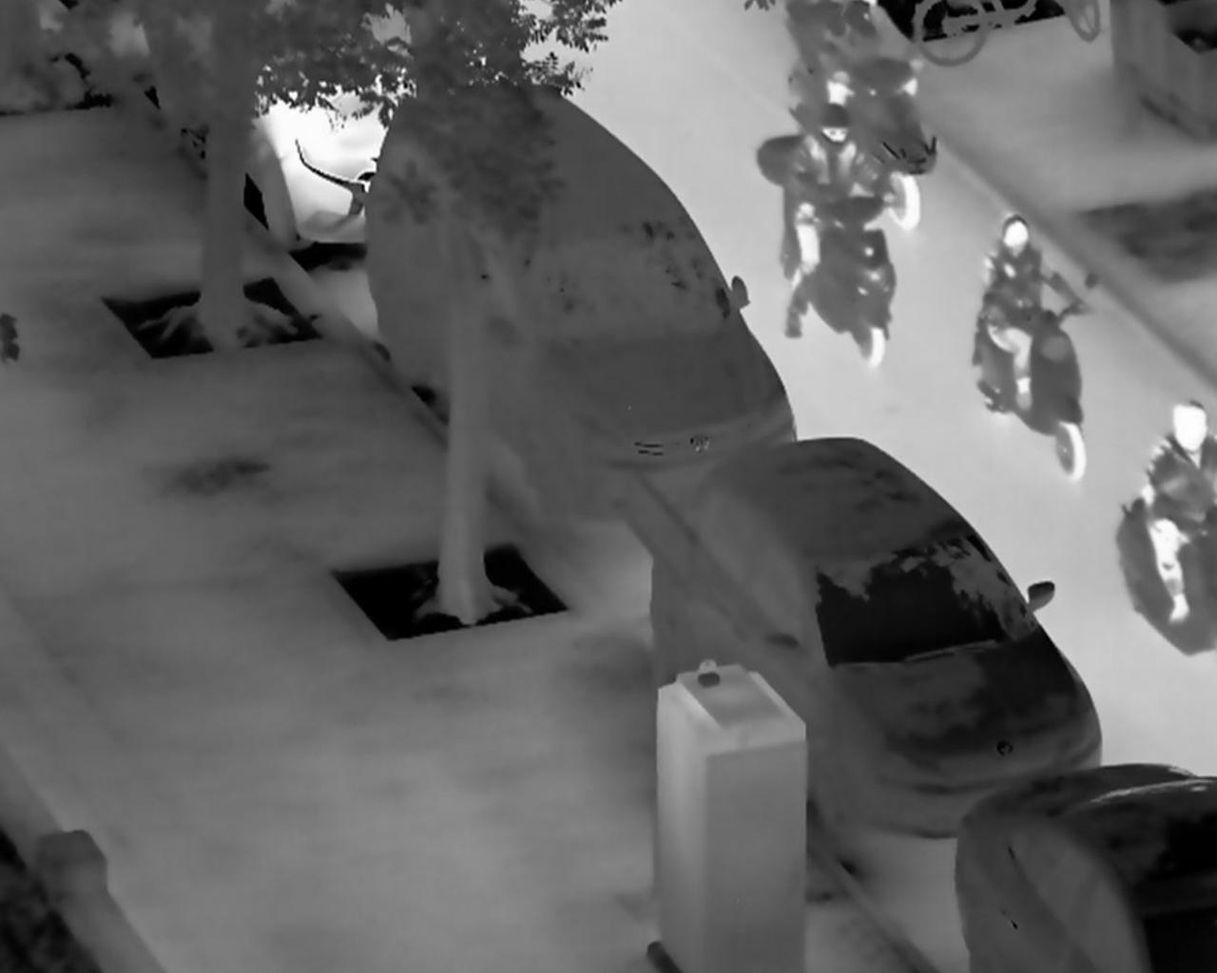person: (784, 102, 898, 341), (979, 210, 1090, 415), (1142, 399, 1217, 625)
